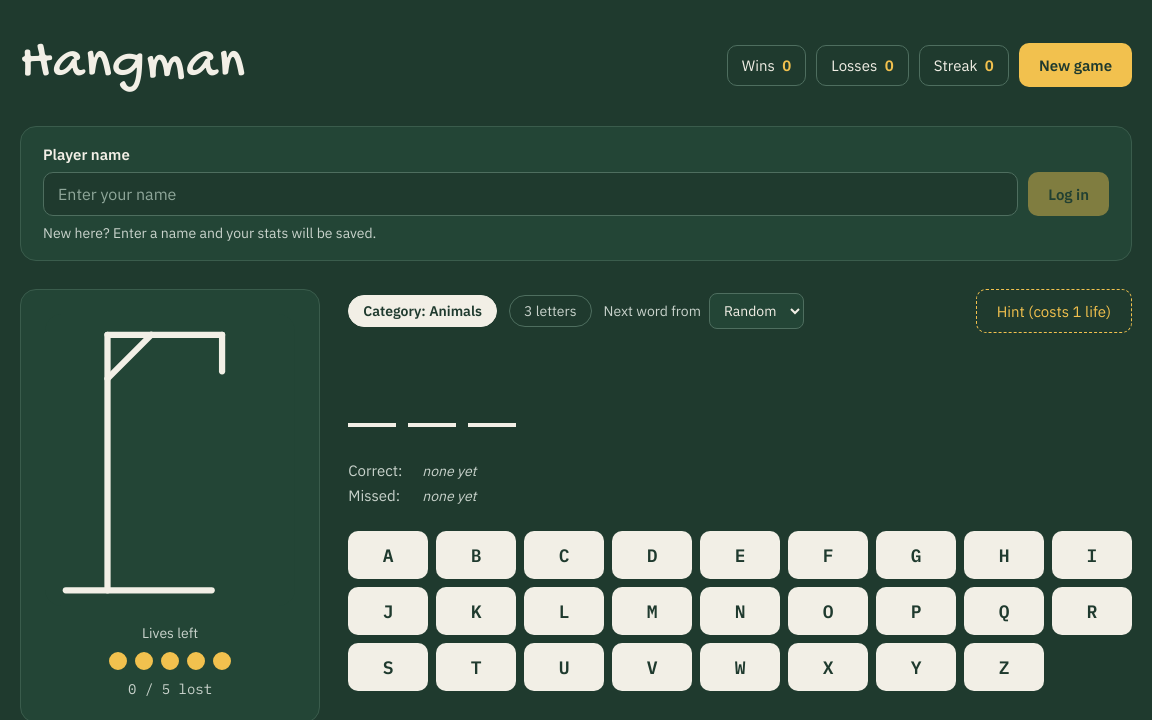
App — player login and stats › shows an error if the server cannot be reached
In the field labelled "Player name": (531, 194) [43, 172, 1018, 216], type "Brock"
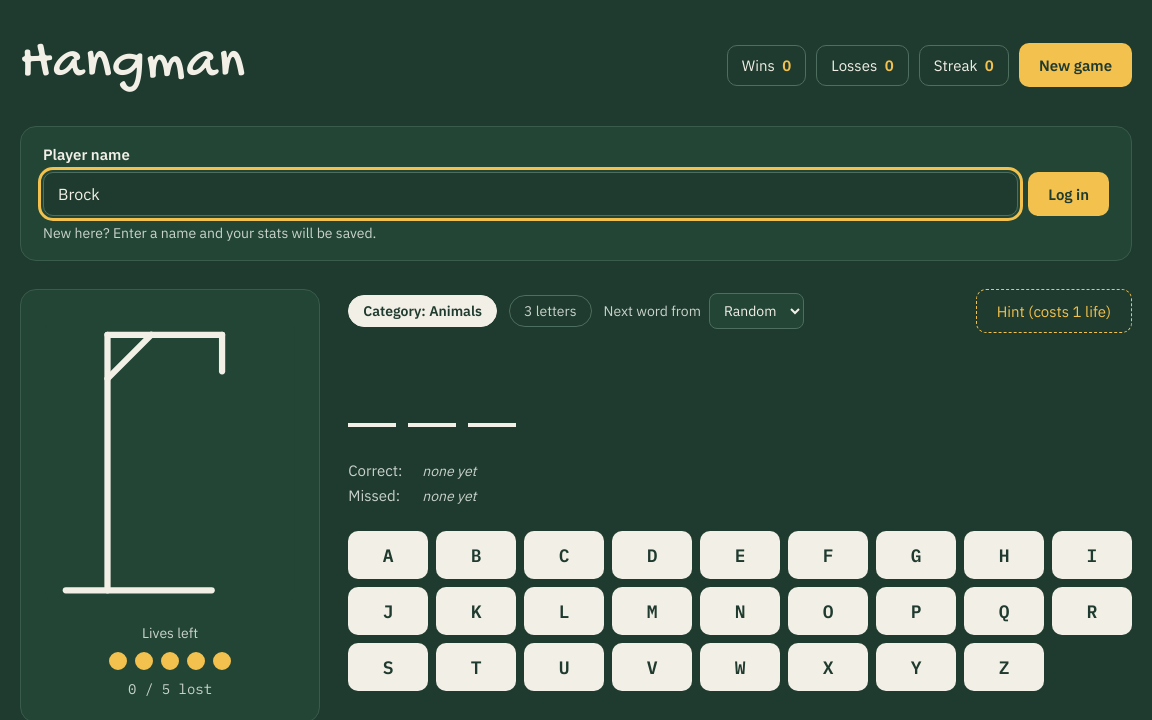
Click the button "Log in": (1069, 194) [1028, 172, 1109, 216]
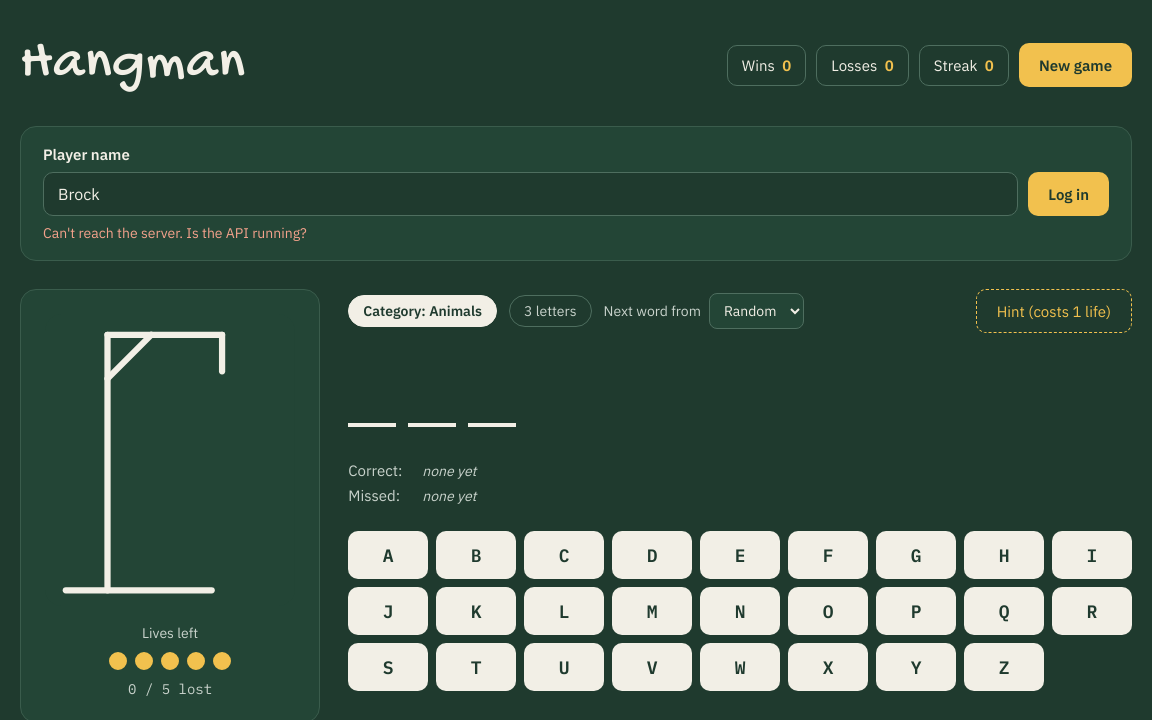
Expected: the message shows "Can't reach the server", [43, 224, 307, 242]
